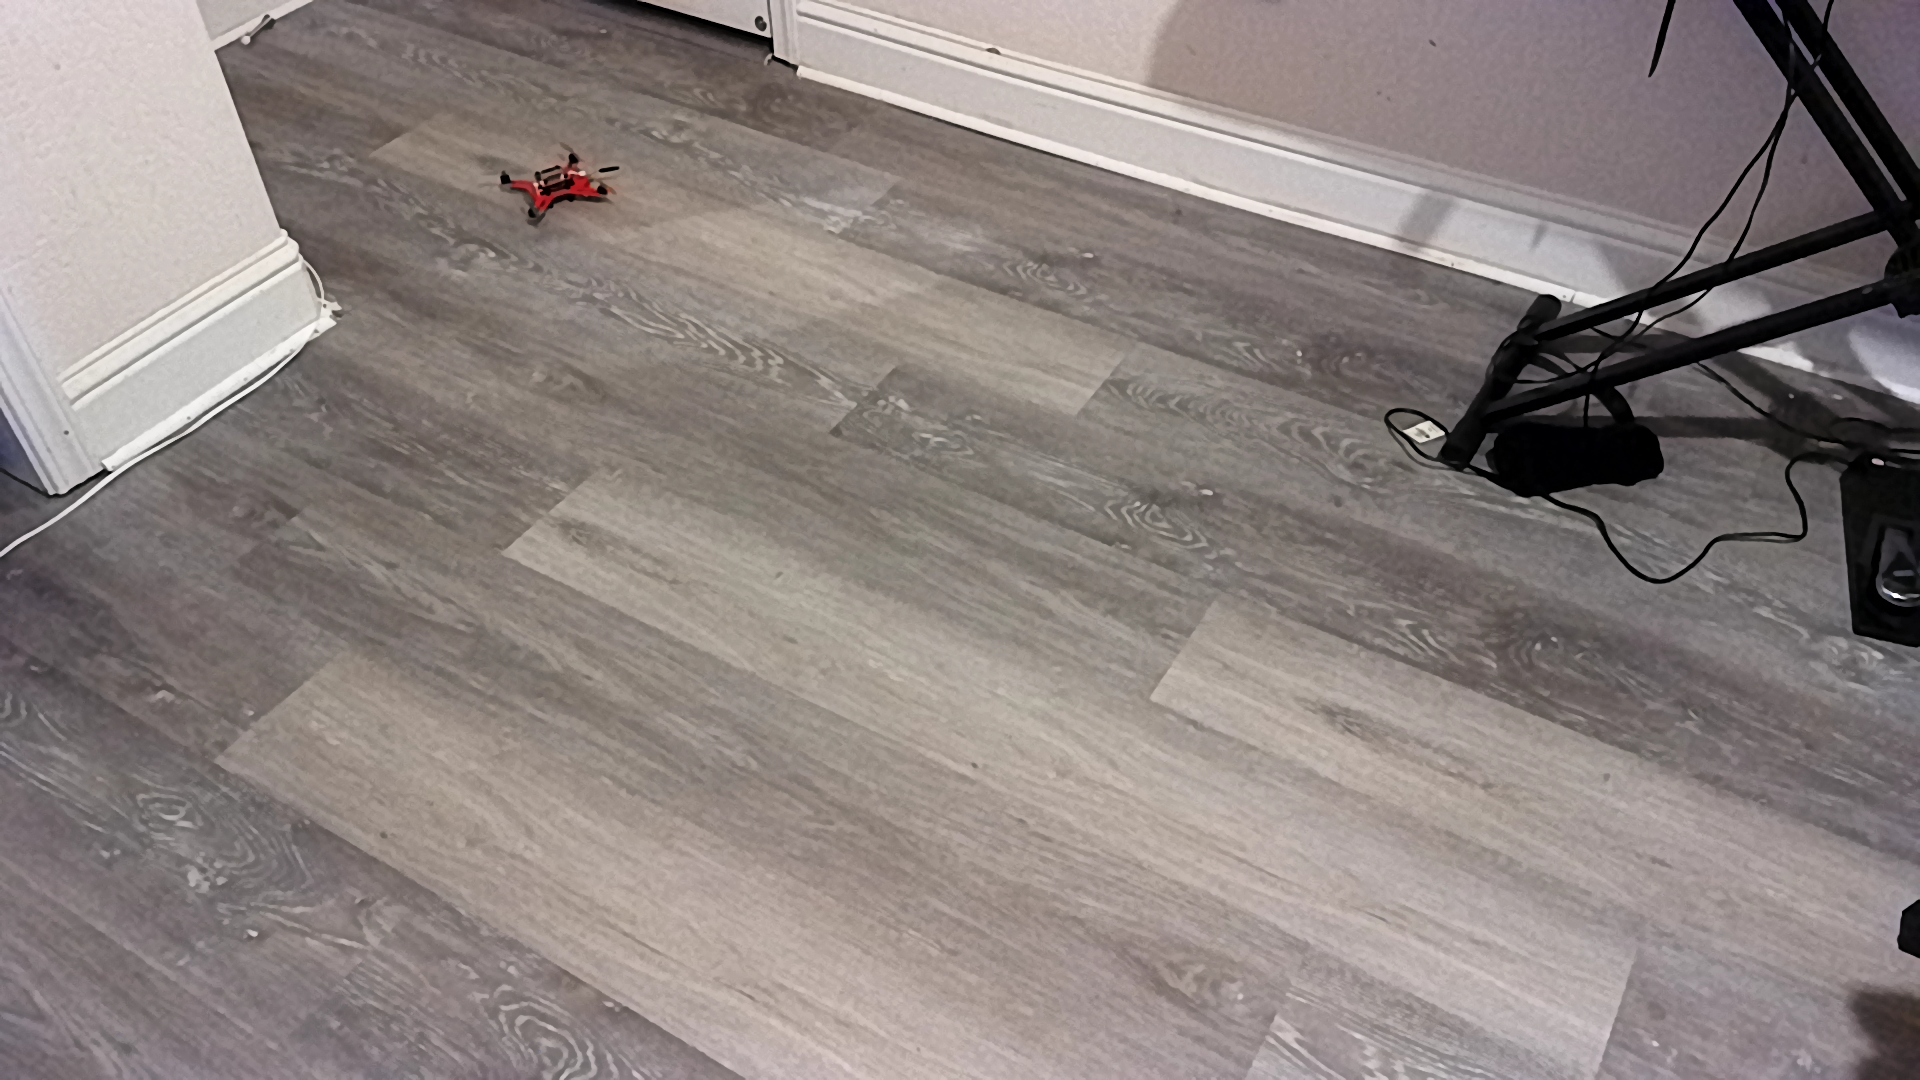drone: (481, 133, 642, 232)
